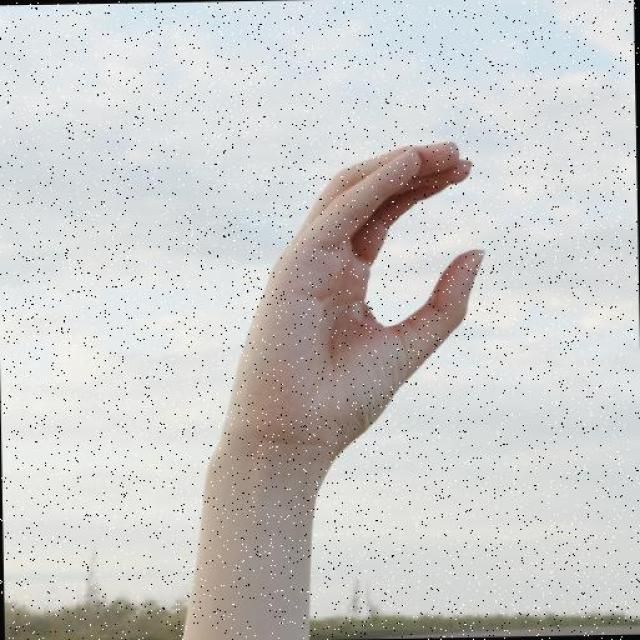C: (190, 136, 492, 478)
